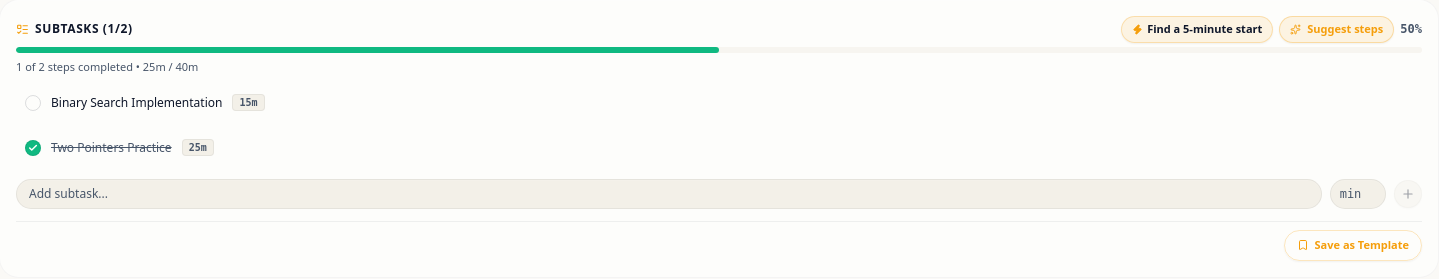
TaskDrawerSubtasks Component › enters inline edit mode on double-clicking subtask text
Double-click the text "Binary Search Implementation" at (137, 102), box [51,94,222,110]
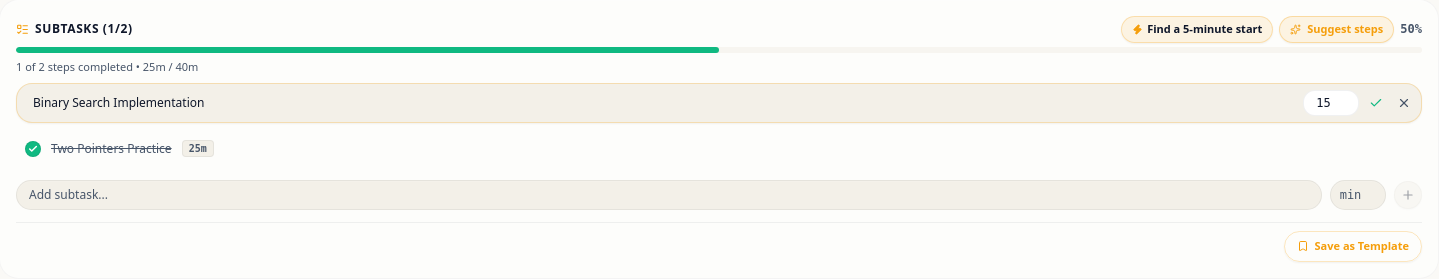
Check: the field named "Edit subtask title" holds "Binary Search Implementation", box [23,91,1297,115]
